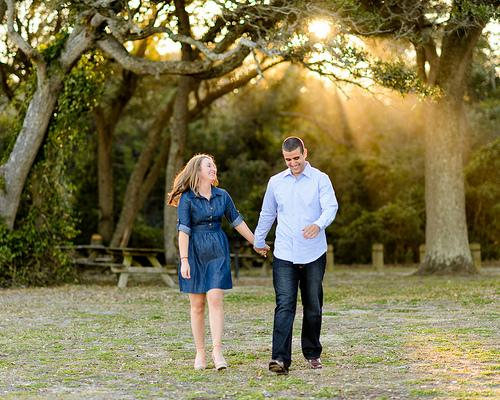Person: (252, 132, 344, 380), (174, 151, 263, 374)
